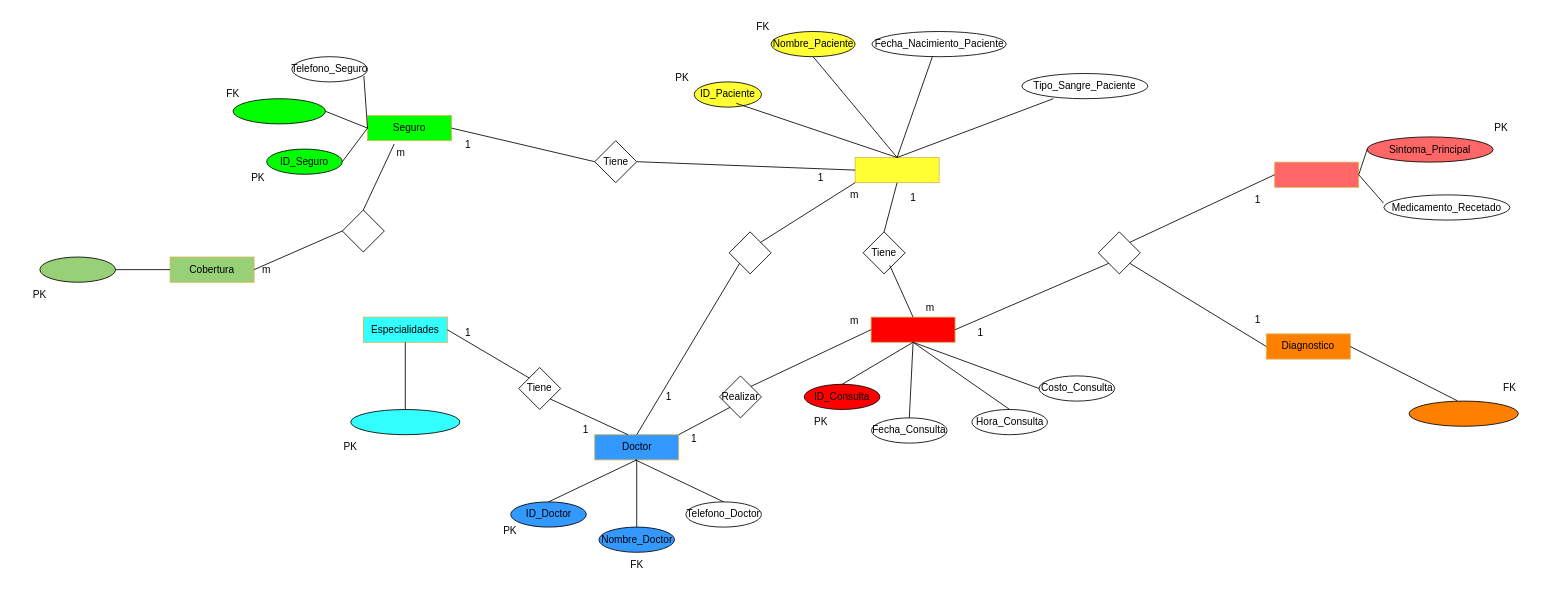
Some shapes in this 1549 by 591 pixel diagram are drawn without their labels. Here are the shapes that lost their labels. From the top down, the centre of each, then its label:
At [279,111]: "Compañia_Seguro".
At [896,170]: "Paciente".
At [1316,174]: "Tratamiento".
At [362,230]: "Ofrece".
At [77,269]: "Tipo_Cobertura".
At [749,252]: "Atender".
At [1118,252]: "Genera".
At [912,329]: "Consulta".
At [405,422]: "Especialidad_Doctor".
At [1463,413]: "Diagnostico_Consulta".
